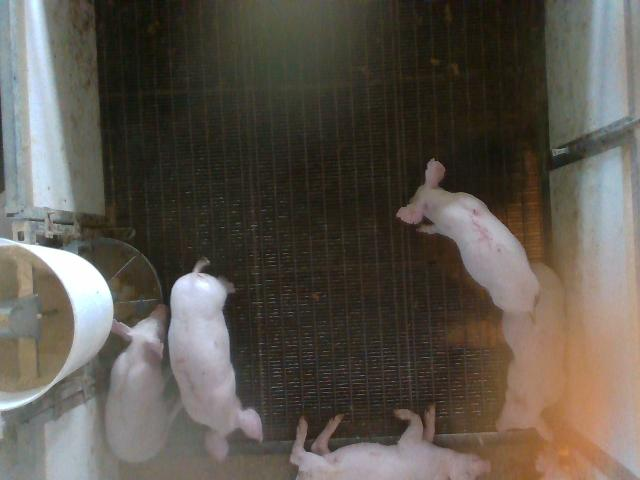pig-5: (396, 159, 540, 312)
